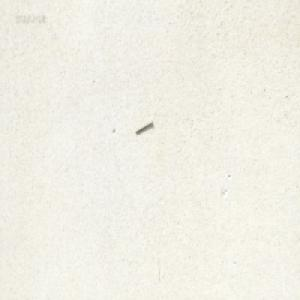Bolt: (134, 118, 152, 133)
